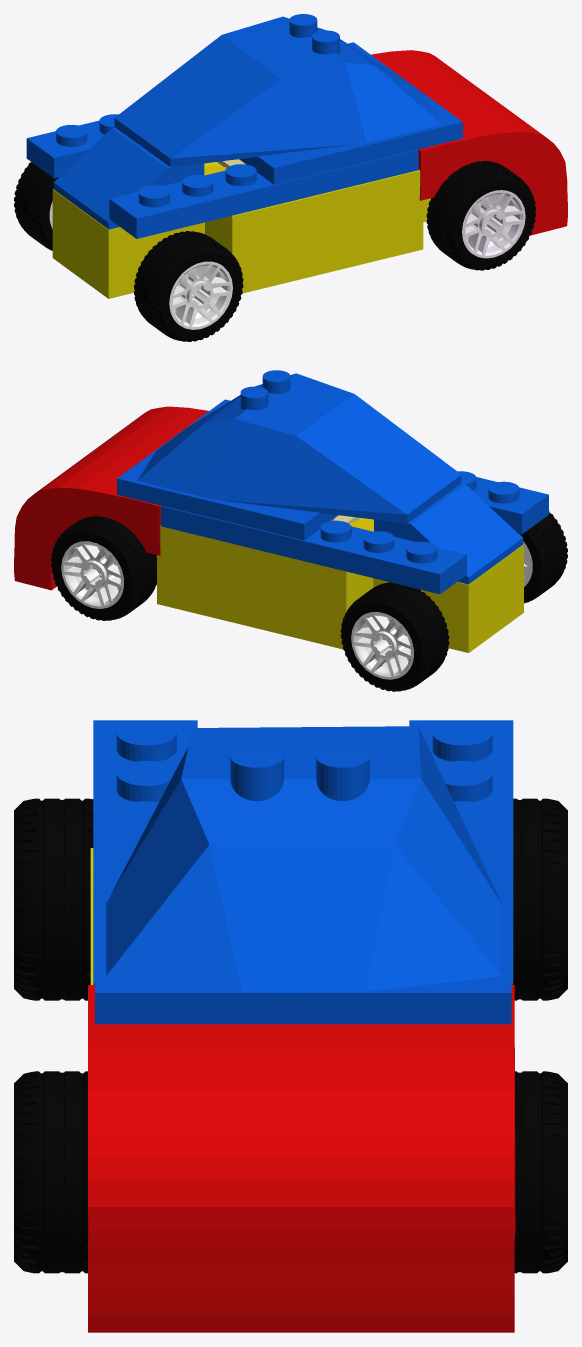
The model's file is Finished Car.fbx.
3 views of the same model, one above another, from view 1: azimuth 30°, elevation 25°; view 2: azimuth 150°, elevation 25°; view 3: azimuth 270°, elevation 25° (orthographic). The views are drawn at different scales.
Parts seen in each view (by area): view 1: Cube.002; view 2: Cube.002; view 3: Cube.002.
Boxes of the visible parts, x1,y1,x2,y2 form: Cube.002: (14,14,567,341); Cube.002: (14,370,567,691); Cube.002: (14,720,567,1332).
Size of the model in its own units: 604 by 287 by 351.
